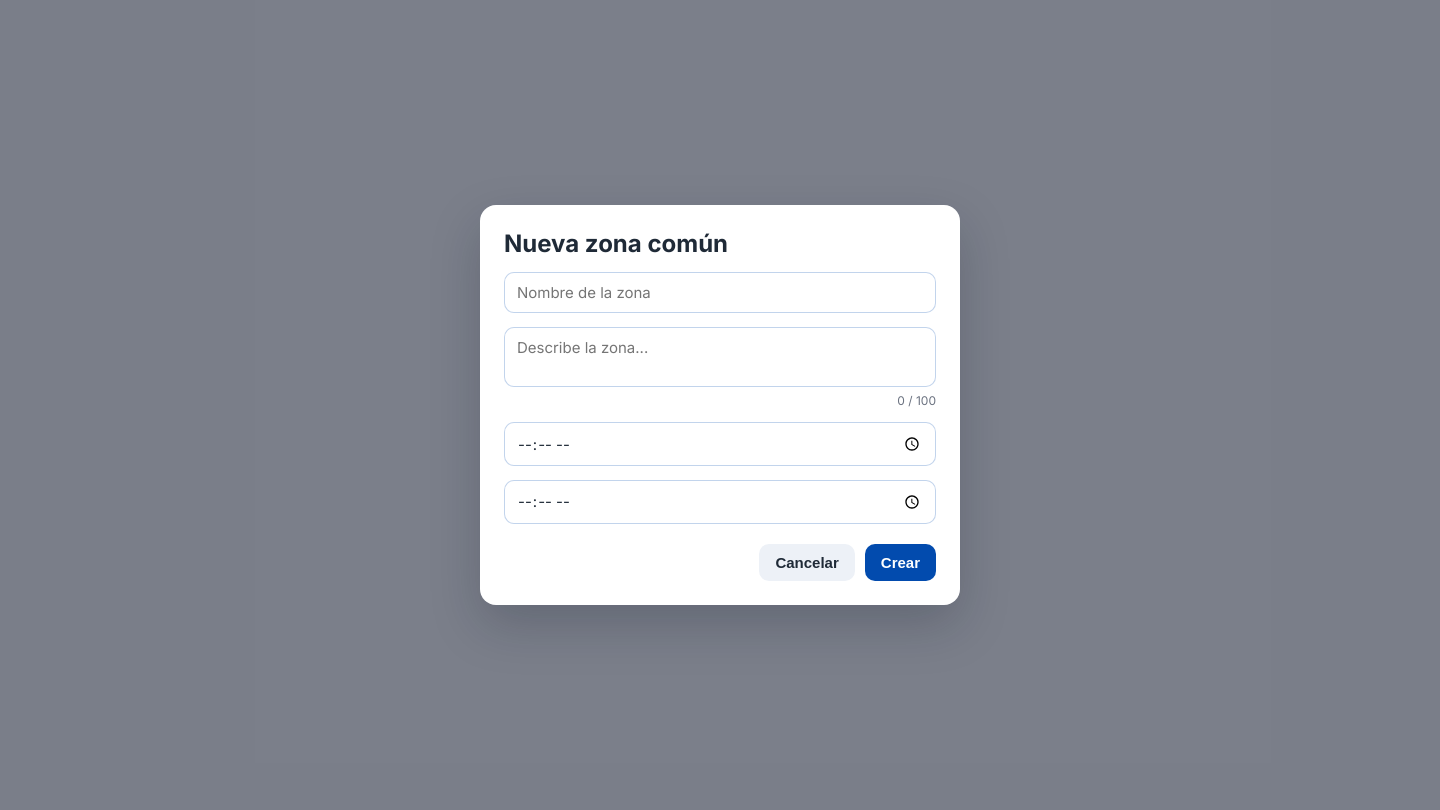
Test: AddZoneForm component test suite › updates the description counter
Type "abcde" into the text box with placeholder "Describe la zona..." at (720, 357), box [504,327,936,387]
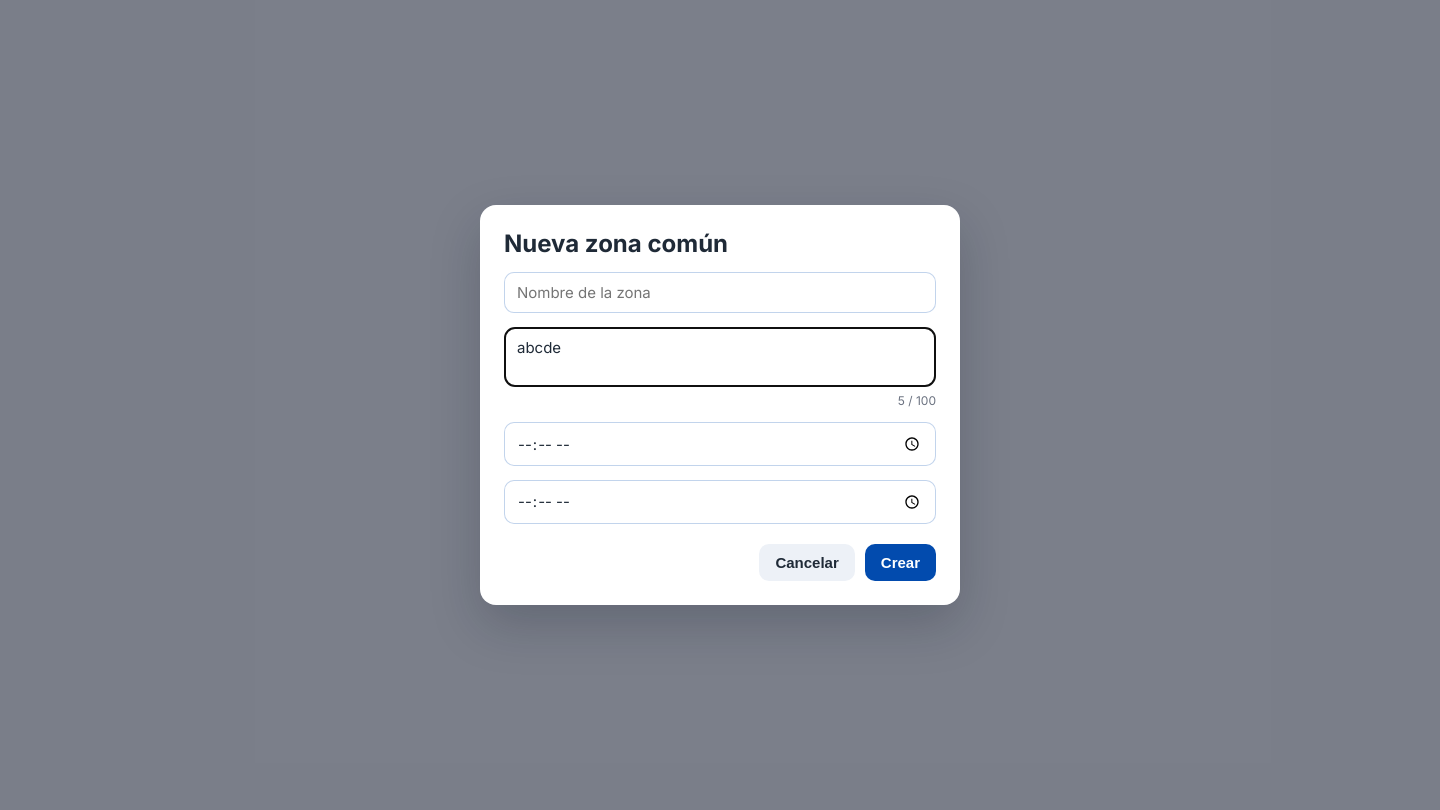
Expected: the text "5 / 100" is shown, [898,393,936,408]
